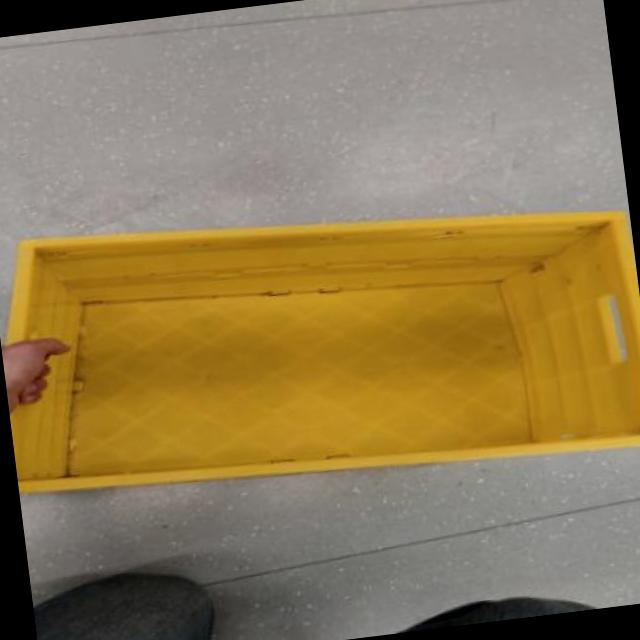box: (0, 165, 640, 534)
